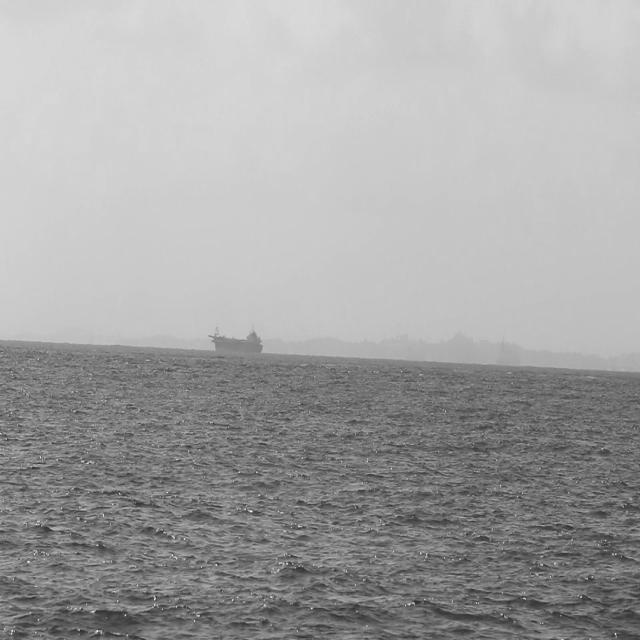ship: (207, 328, 262, 365)
